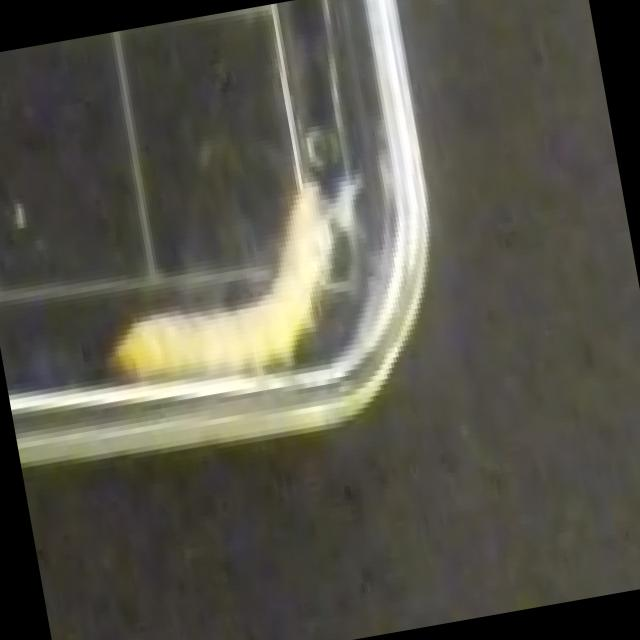larva: (80, 183, 348, 387)
